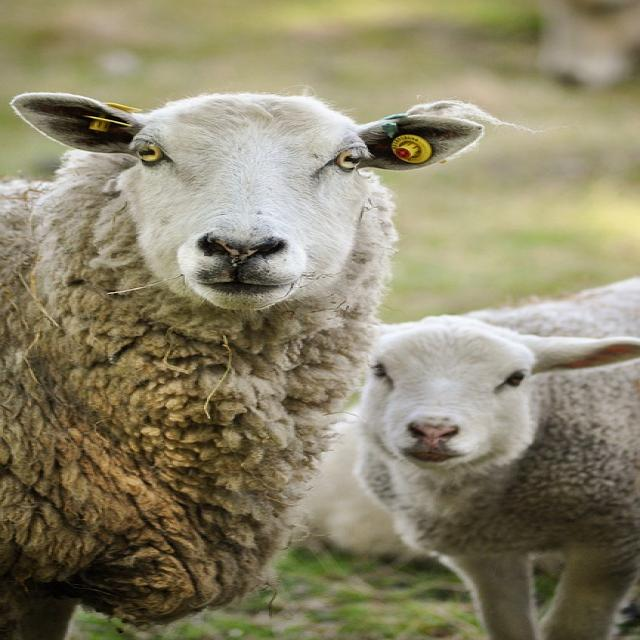sheep: (0, 88, 494, 638), (352, 310, 638, 639)
